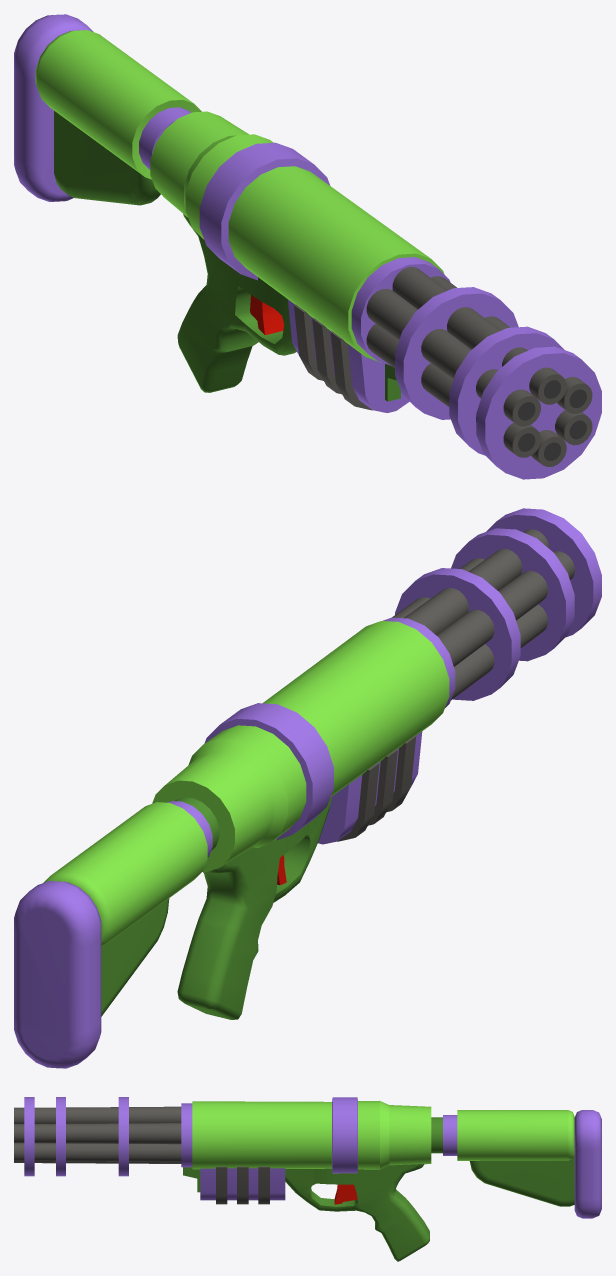
Rendered from SM_Toy_Gun_3.fbx.
3 renders of one model, top to bottom at view 1: azimuth 30°, elevation 25°; view 2: azimuth 150°, elevation 25°; view 3: azimuth 270°, elevation 25°, orthographic. The views are drawn at different scales.
Visible parts, largest first — view 1: SM_Toy_Gun_3; view 2: SM_Toy_Gun_3; view 3: SM_Toy_Gun_3.
Boxes of the visible parts, bbox=[...] form: SM_Toy_Gun_3: bbox=[14, 14, 601, 479]; SM_Toy_Gun_3: bbox=[14, 508, 601, 1068]; SM_Toy_Gun_3: bbox=[14, 1097, 601, 1261].
Size of the model in its own units: 224 by 495 by 1681.
